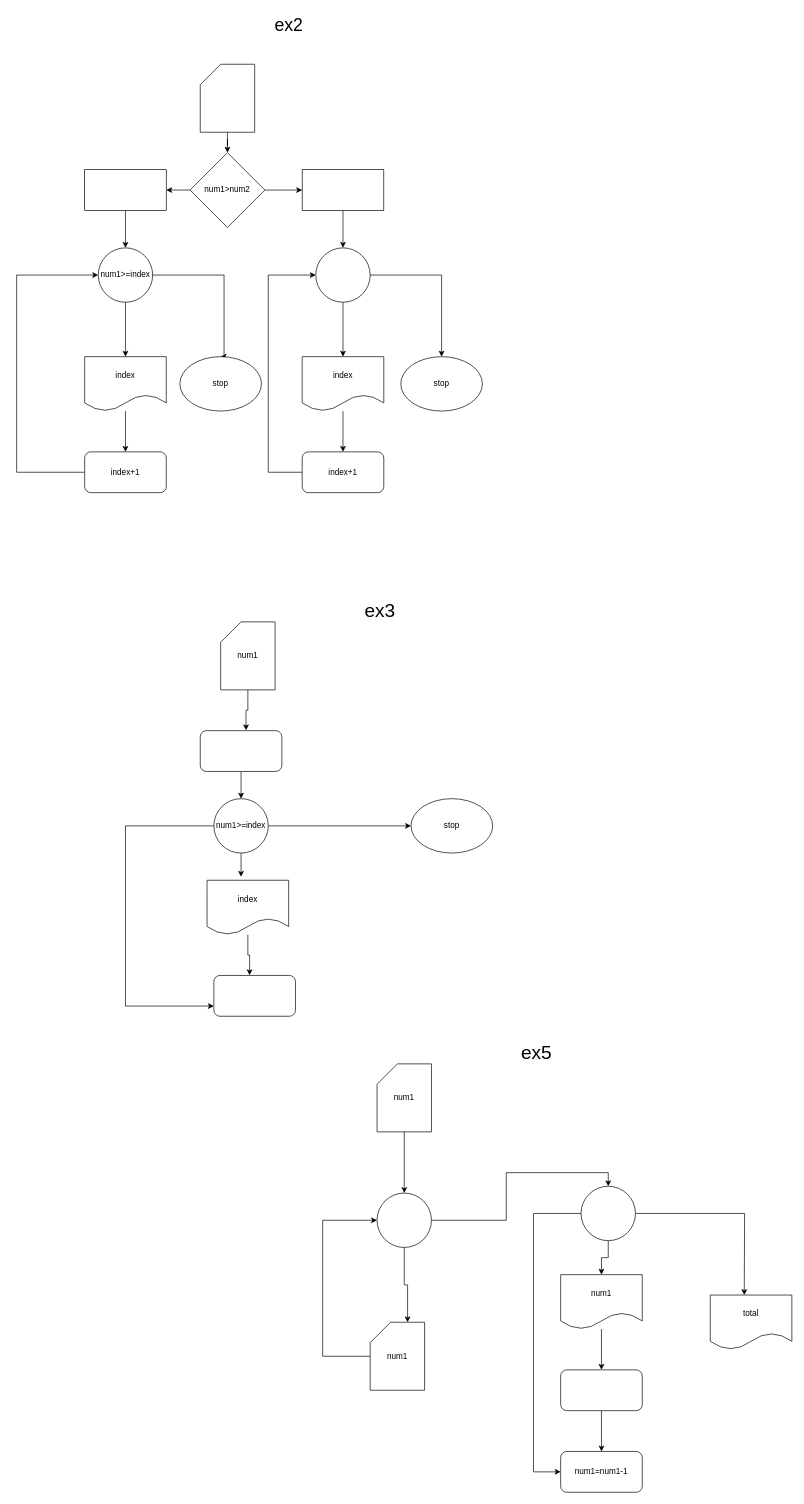
Some shapes in this 804 by 1504 pixel diagram are drawn without their labels. The shapes that lost their labels are listed below. From the top down, each one's centre as x and y in pixels, then its label:
At point (227, 98): "num1 num2".
At point (125, 189): "index=num2".
At point (343, 189): "index=num1".
At point (342, 274): "num2>=index".
At point (241, 750): "index===0".
At point (254, 995): "index=index+2".
At point (403, 1219): "num1>0 || num1<-99".
At point (607, 1213): "num1>-100".
At point (601, 1390): "total=total+num1".
